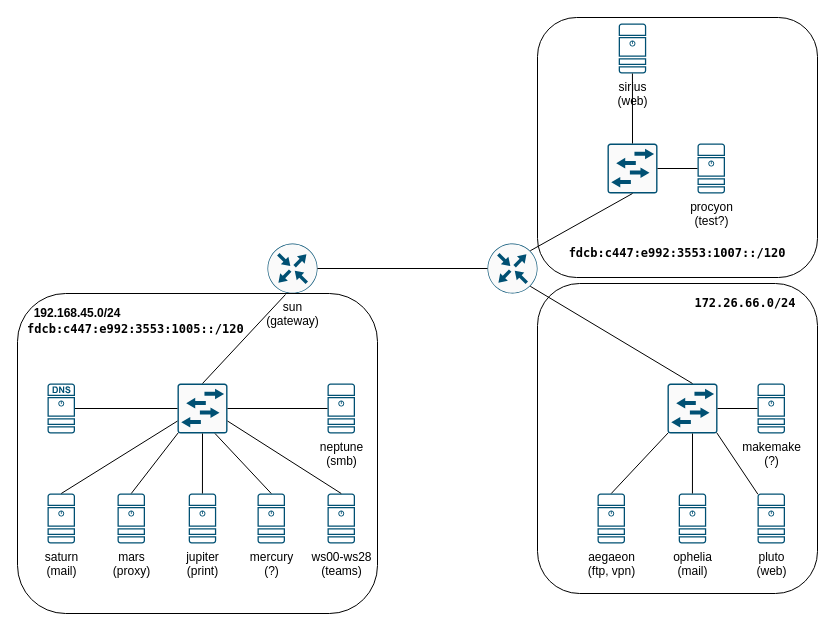
Image size: 835x631. Some labels were removed from this diagram. The shapes that lost their labels are listed below. From the top down, each one's centre as x and y in pixels, then its label:
At [512,268]: "tauceti (gateway)".
At [60,408]: "venus (DNS)".
